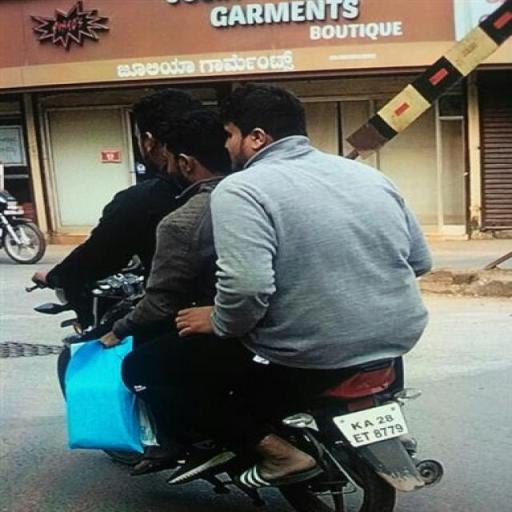tripple riding: (26, 76, 443, 344)
